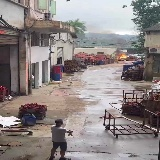fire: (119, 53, 127, 58)
